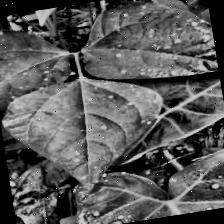Bean Rust: (0, 63, 173, 199), (72, 0, 218, 89), (0, 15, 76, 107)
